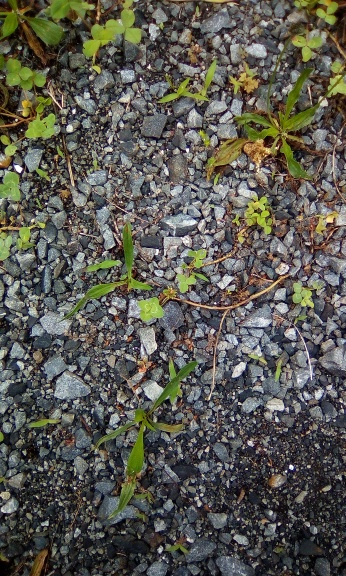4leaf: (137, 297, 164, 323)
